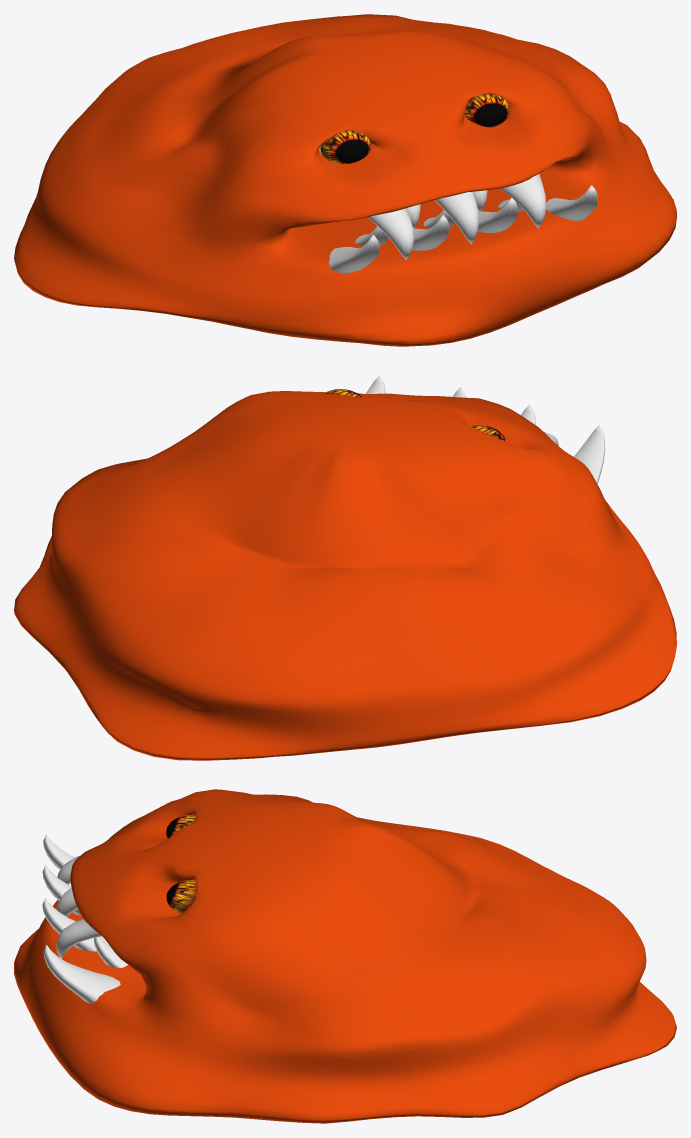
The model's file is enemy_unten4.fbx.
3 views of the same model, one above another, from view 1: azimuth 30°, elevation 25°; view 2: azimuth 150°, elevation 25°; view 3: azimuth 270°, elevation 25° (orthographic).
Visible parts, largest first — view 1: pSphere7; view 2: pSphere7; view 3: pSphere7.
Part boxes in pixels (x1=…): pSphere7: x1=14, y1=14, x2=676, y2=346; pSphere7: x1=14, y1=375, x2=676, y2=760; pSphere7: x1=14, y1=789, x2=676, y2=1123.
Size of the model in its own units: 4.11 by 1.26 by 3.97.
